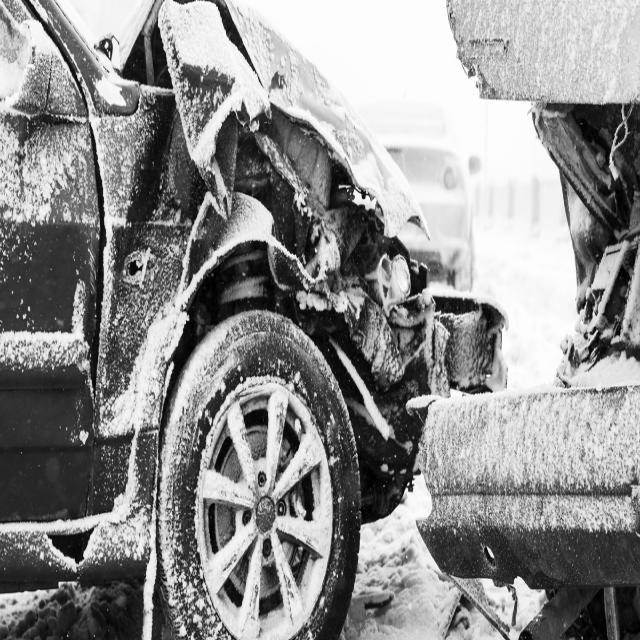Accident: (3, 2, 509, 640)
